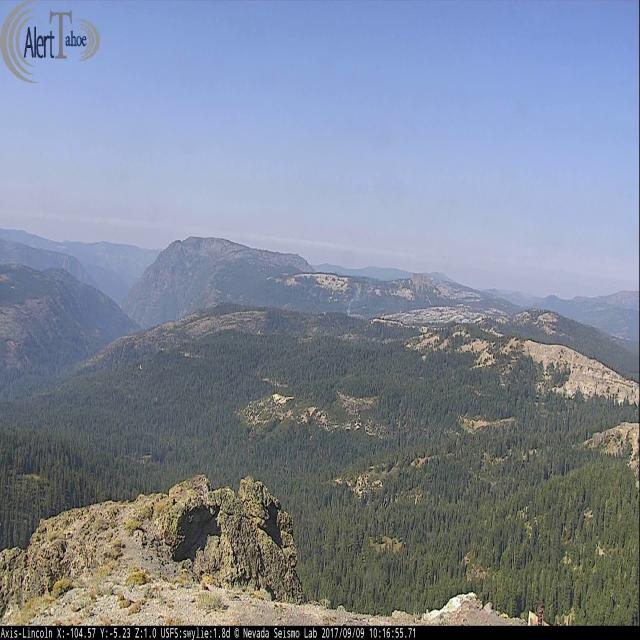smoke: (342, 288, 374, 319)
